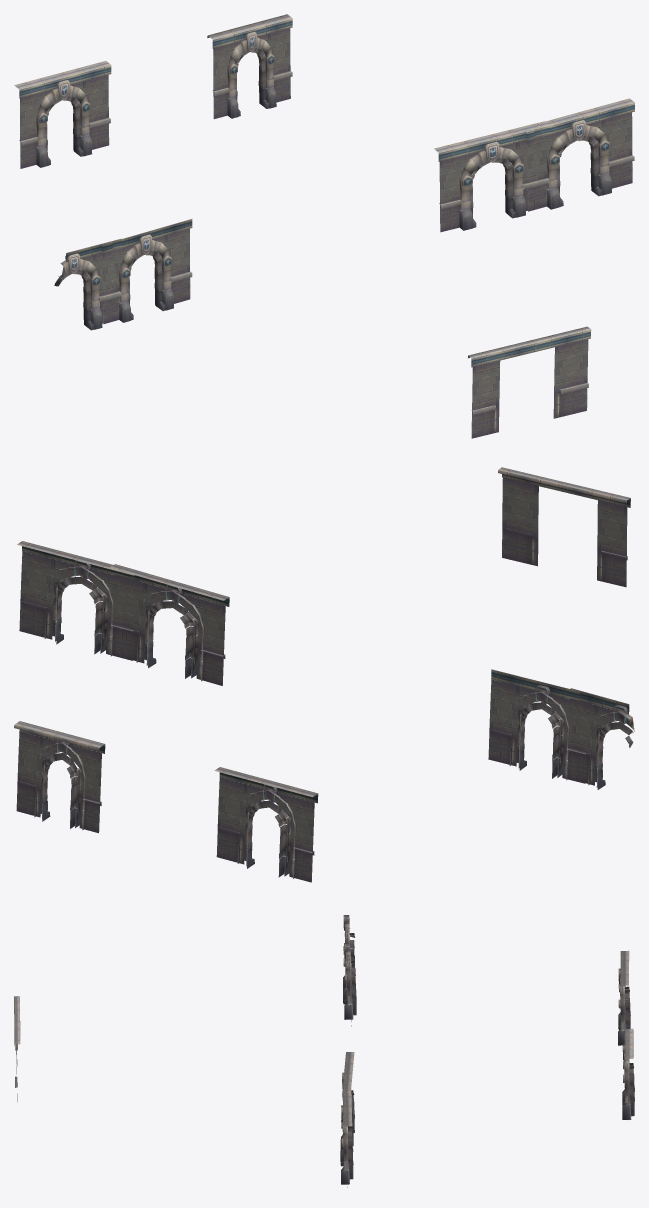
File: S_Build_City122_A.FBX
3 views of the same model, one above another, from view 1: azimuth 30°, elevation 25°; view 2: azimuth 150°, elevation 25°; view 3: azimuth 270°, elevation 25° (orthographic). The views are drawn at different scales.
Visible parts, largest first — view 1: S_Build_City122_003, S_Build_City122_002, S_Build_City122_007, S_Build_City122_001, S_Build_City122_006, S_Build_City122_004, S_Build_City122_005; view 2: S_Build_City122_002, S_Build_City122_003, S_Build_City122_007, S_Build_City122_001, S_Build_City122_006, S_Build_City122_004, S_Build_City122_005; view 3: S_Build_City122_002, S_Build_City122_006, S_Build_City122_007, S_Build_City122_004, S_Build_City122_003, S_Build_City122_001.
Part boxes in pixels (bbox=[...]): S_Build_City122_003: bbox=[434, 121, 549, 232]; S_Build_City122_002: bbox=[526, 98, 634, 211]; S_Build_City122_007: bbox=[14, 61, 111, 168]; S_Build_City122_001: bbox=[468, 326, 591, 438]; S_Build_City122_006: bbox=[207, 14, 292, 118]; S_Build_City122_004: bbox=[102, 219, 192, 324]; S_Build_City122_005: bbox=[54, 238, 121, 330]; S_Build_City122_002: bbox=[17, 541, 134, 660]; S_Build_City122_003: bbox=[110, 564, 229, 685]; S_Build_City122_007: bbox=[214, 767, 318, 882]; S_Build_City122_001: bbox=[498, 467, 630, 587]; S_Build_City122_006: bbox=[14, 721, 105, 833]; S_Build_City122_004: bbox=[488, 669, 585, 783]; S_Build_City122_005: bbox=[569, 688, 634, 789]; S_Build_City122_002: bbox=[340, 1085, 353, 1187]; S_Build_City122_006: bbox=[622, 1028, 634, 1119]; S_Build_City122_007: bbox=[618, 950, 630, 1045]; S_Build_City122_004: bbox=[343, 934, 356, 1026]; S_Build_City122_003: bbox=[340, 1052, 354, 1149]; S_Build_City122_001: bbox=[14, 996, 20, 1101].
Bounding box in the file's own units: 10272 × 1743 × 11804.
1 material, 1 textured.
